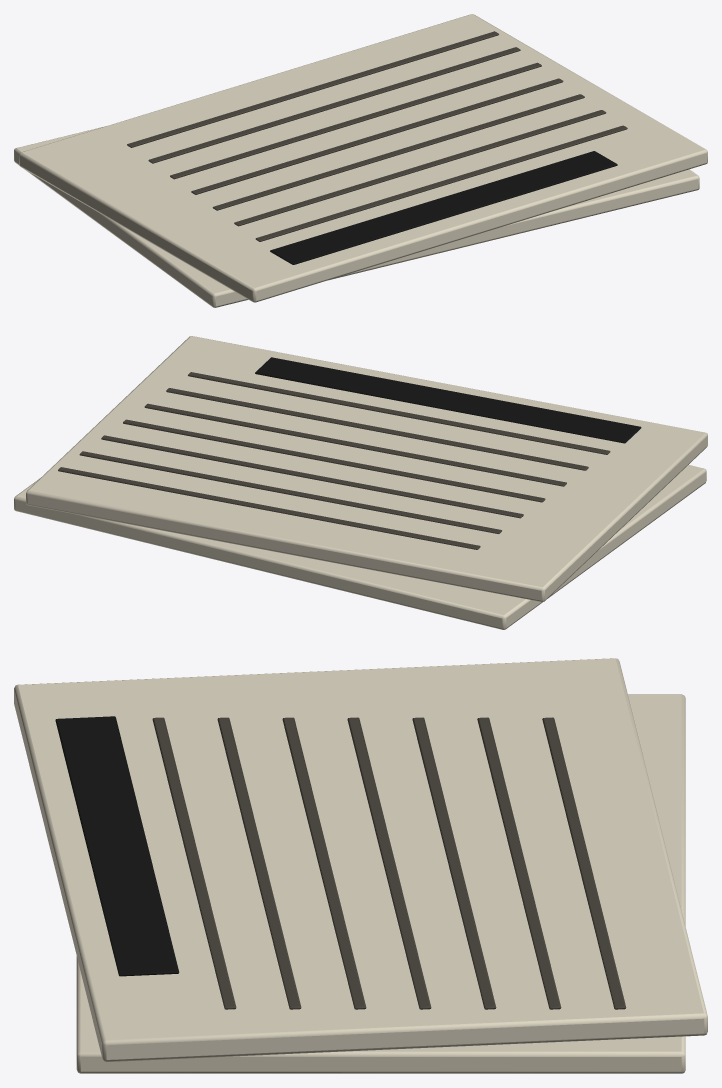
File: BaoCu_TrenBan.glb
3 views of the same model, one above another, from view 1: azimuth 30°, elevation 25°; view 2: azimuth 150°, elevation 25°; view 3: azimuth 270°, elevation 25° (orthographic). The views are drawn at different scales.
Parts seen in each view (by area): view 1: BaoCu_TrenBan; view 2: BaoCu_TrenBan; view 3: BaoCu_TrenBan.
Part boxes in pixels (box(x1,y1,x2,y2)): BaoCu_TrenBan: box(14, 14, 707, 307); BaoCu_TrenBan: box(14, 336, 707, 629); BaoCu_TrenBan: box(14, 658, 707, 1073).
Size of the model in its own units: 0.4486 by 0.0272 by 0.3418.
